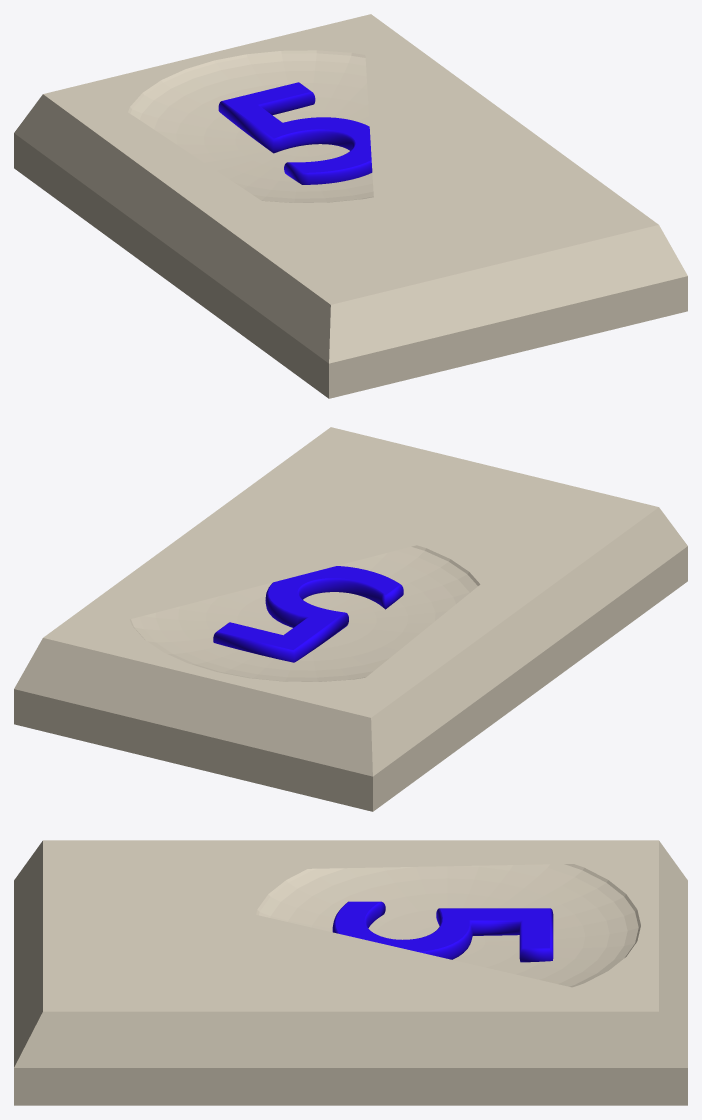
The model's file is bl5_cube_tail.fbx.
The picture shows the model from 3 angles, top to bottom: view 1: azimuth 30°, elevation 25°; view 2: azimuth 150°, elevation 25°; view 3: azimuth 270°, elevation 25°; orthographic projection. The views are drawn at different scales.
Parts seen in each view (by area): view 1: 큐브, 숫자; view 2: 큐브, 숫자; view 3: 큐브, 숫자.
Boxes of the visible parts, box(x1,y1,x2,y2) form: 큐브: box(14, 14, 687, 398); 숫자: box(218, 82, 372, 184); 큐브: box(14, 427, 687, 811); 숫자: box(213, 566, 403, 662); 큐브: box(14, 840, 687, 1105); 숫자: box(332, 901, 553, 962).
Bounding box in the file's own units: 500 × 107 × 760.
